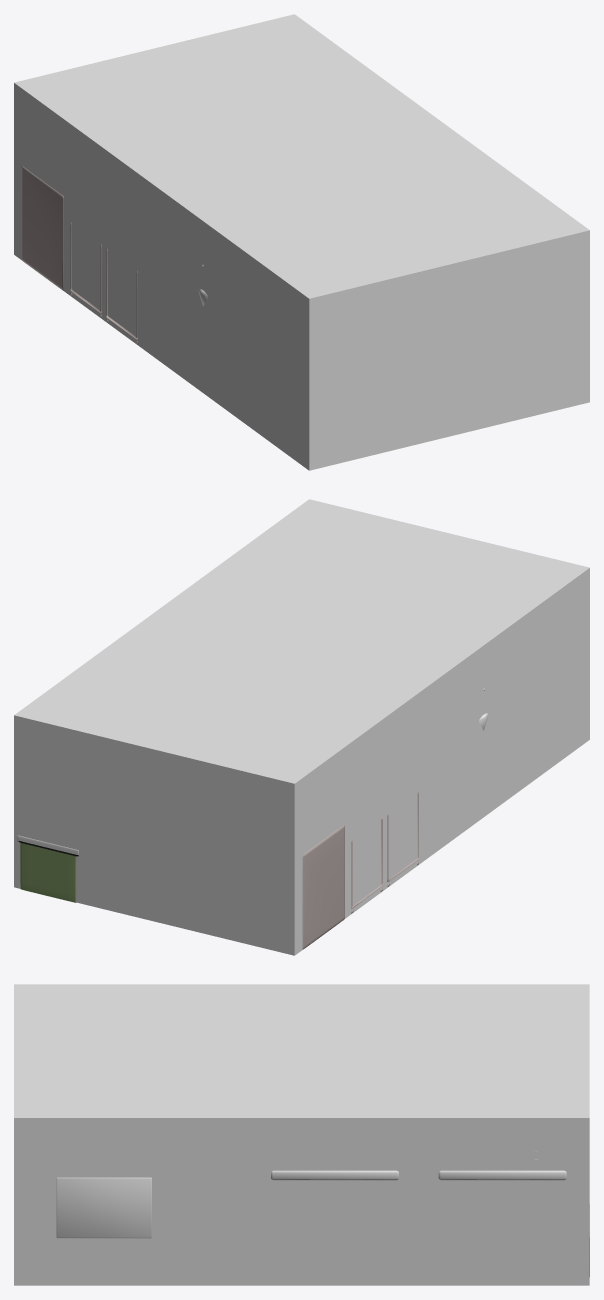
Rendered from MODEL_Bakery.fbx.
3 renders of one model, top to bottom at view 1: azimuth 30°, elevation 25°; view 2: azimuth 150°, elevation 25°; view 3: azimuth 270°, elevation 25°, orthographic. The views are drawn at different scales.
Visible parts, largest first — view 1: wall, KITCHEN; view 2: wall, KITCHEN; view 3: wall, Window, Shevles.
Part boxes in pixels (x1,y1,x2,y2): wall: [14, 14, 589, 470]; KITCHEN: [21, 166, 137, 344]; wall: [14, 499, 589, 955]; KITCHEN: [17, 791, 418, 949]; wall: [14, 984, 589, 1285]; Window: [56, 1177, 151, 1238]; Shevles: [271, 1170, 566, 1180].
Size of the model in its own units: 889 by 518 by 1605.
